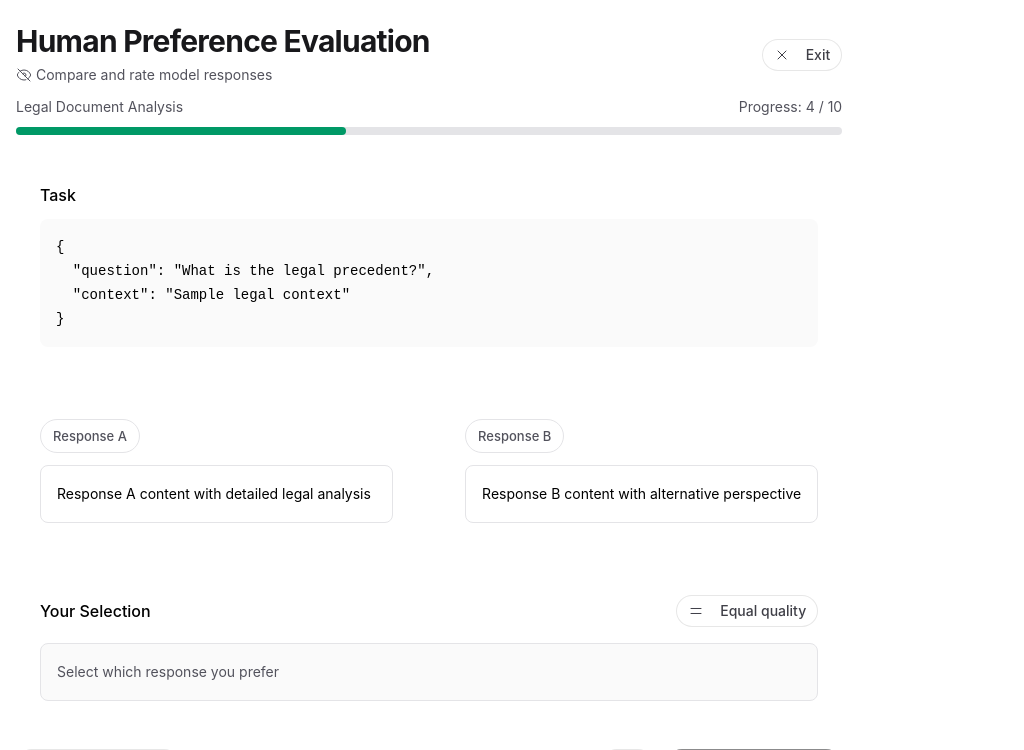
PreferenceEvaluation › submit functionality › enables submit button when winner is selected
The image size is (1024, 750).
Expected: the text "Response A" is shown, [40, 419, 140, 453]
What coordinates should you click on to do the following:
click the element with test id "card" that starts with "Response A"
I would click on:
 (217, 471)
Its box is [16, 395, 417, 547].
(page scrolled)
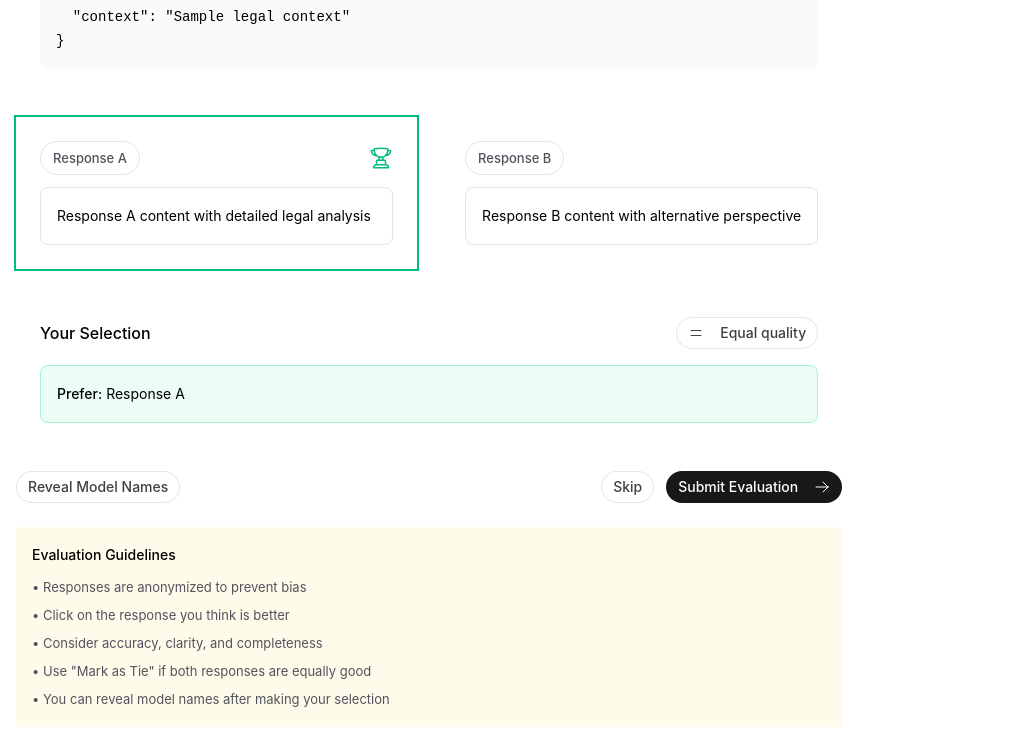
Now the button "Submit Evaluation" is enabled, box [666, 471, 842, 503]
